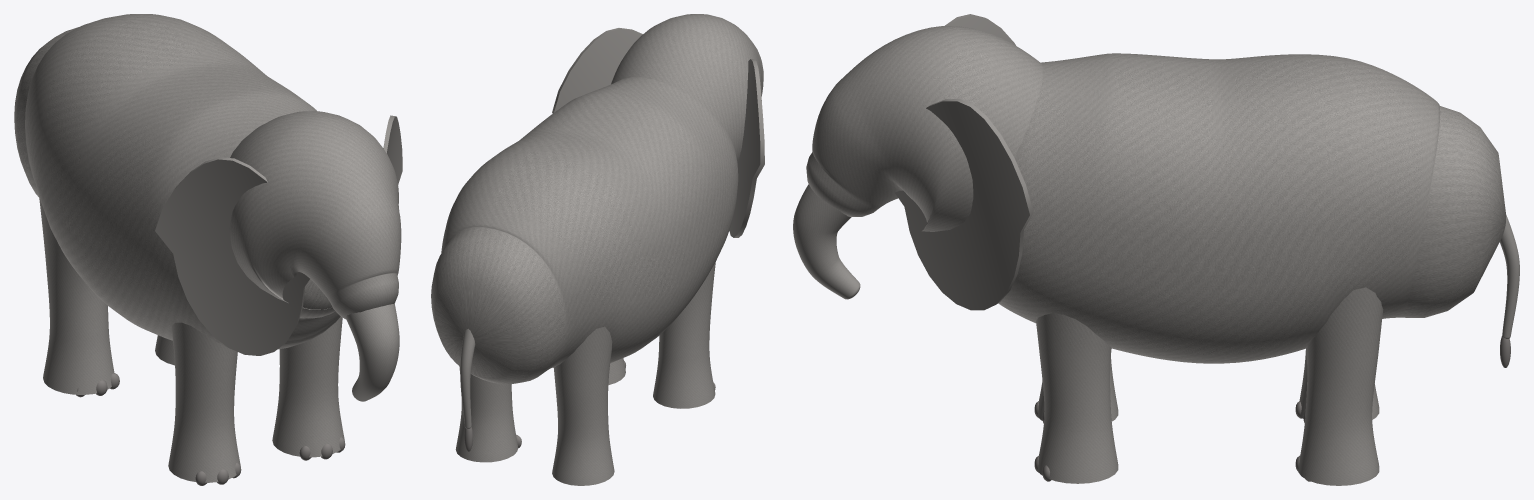
The model's file is exotic-wildlife-hd-african-elephant-calf-3049509d__30211.glb.
3 renders of one model, left to right at view 1: azimuth 30°, elevation 25°; view 2: azimuth 150°, elevation 25°; view 3: azimuth 270°, elevation 25°, orthographic. The views are drawn at different scales.
Visible parts, largest first — view 1: african-elephant-calf; view 2: african-elephant-calf; view 3: african-elephant-calf.
Part boxes in pixels (<box>): african-elephant-calf: <box>14,14,402,485</box>; african-elephant-calf: <box>431,14,764,485</box>; african-elephant-calf: <box>793,14,1519,485</box>.
Bounding box in the file's own units: 1.14 × 1.68 × 2.69.
Materials: 3 (2 with a texture image).
